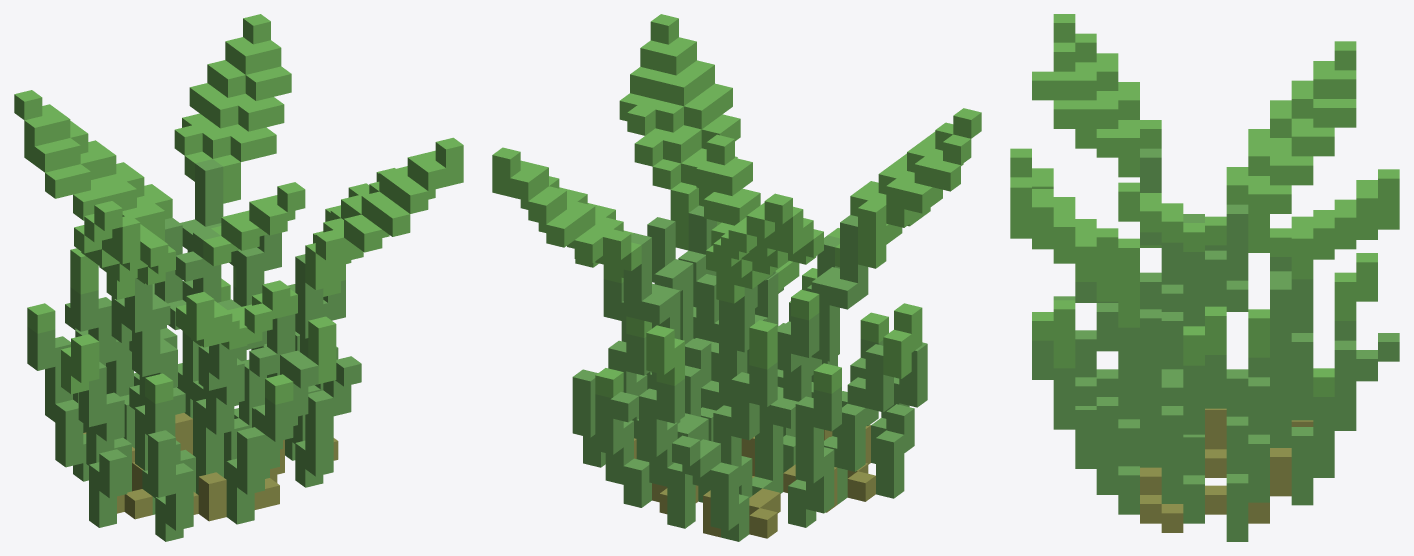
Rendered from Grass_i_v1.fbx.
The picture shows the model from 3 angles, left to right: view 1: azimuth 30°, elevation 25°; view 2: azimuth 150°, elevation 25°; view 3: azimuth 270°, elevation 25°; orthographic projection. The views are drawn at different scales.
Visible parts, largest first — view 1: grass_i; view 2: grass_i; view 3: grass_i.
Boxes of the visible parts, x1,y1,x2,y2 form: grass_i: (14, 14, 463, 541); grass_i: (492, 14, 981, 541); grass_i: (1010, 14, 1399, 541).
Bounding box in the file's own units: 19 × 19 × 18.
